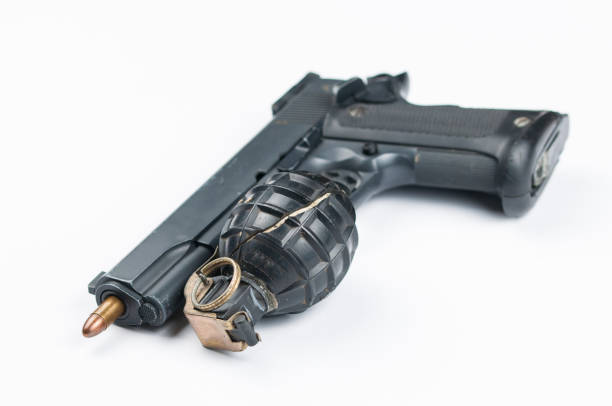e1: (185, 169, 357, 346)
